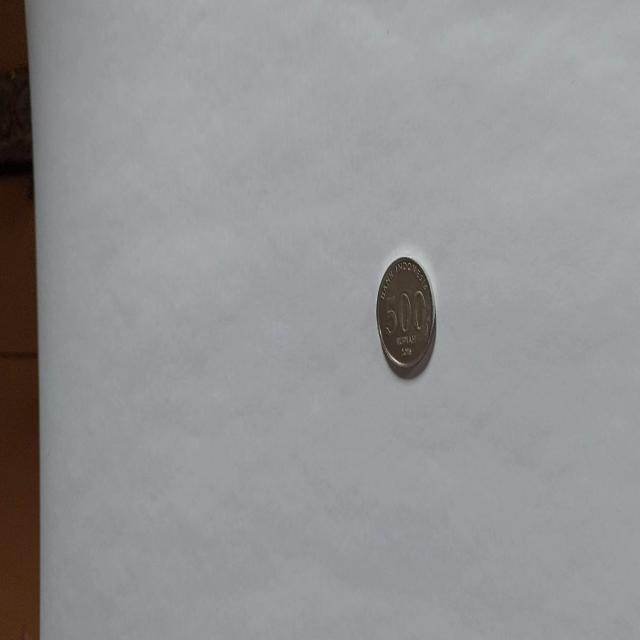lima ratus rupiah: (374, 254, 436, 379)
